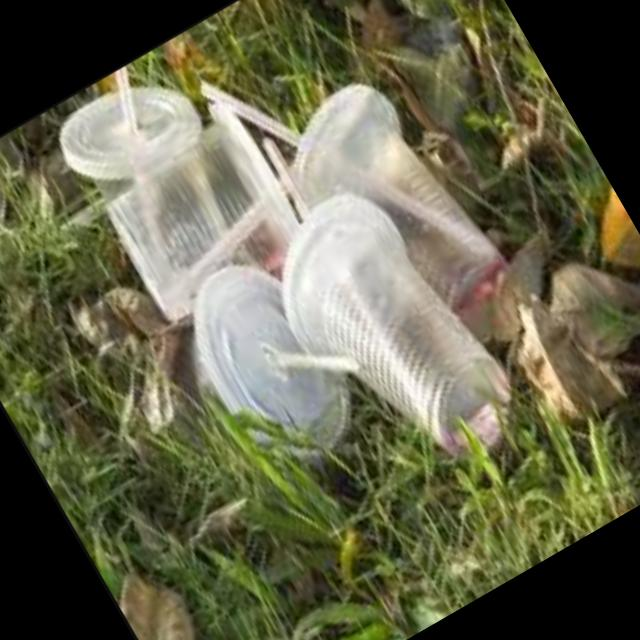GelasPlastik: (238, 154, 538, 506), (259, 51, 533, 374), (82, 87, 320, 328)
